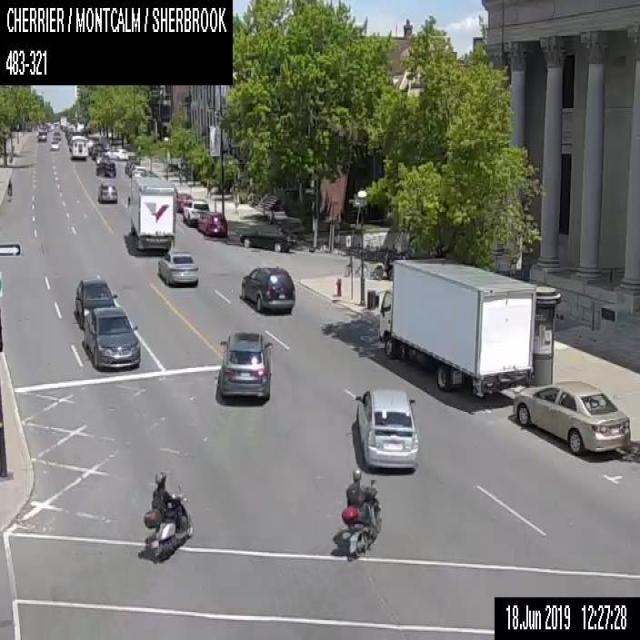bus: (71, 135, 87, 159)
cyclist: (7, 178, 12, 200)
vehicle: (378, 256, 536, 398), (513, 380, 630, 456), (353, 388, 418, 468), (142, 469, 193, 560), (341, 467, 383, 556), (82, 306, 140, 368), (127, 176, 174, 252), (217, 331, 270, 397), (240, 266, 294, 312), (74, 278, 118, 329), (239, 222, 296, 252), (157, 250, 197, 284), (196, 210, 226, 237), (183, 198, 208, 225), (95, 158, 115, 177), (174, 190, 191, 212), (98, 182, 116, 202), (104, 148, 127, 158), (124, 159, 137, 174), (131, 164, 145, 177), (91, 145, 104, 159), (37, 129, 46, 141), (50, 139, 59, 149), (59, 116, 66, 128), (52, 130, 60, 140)
